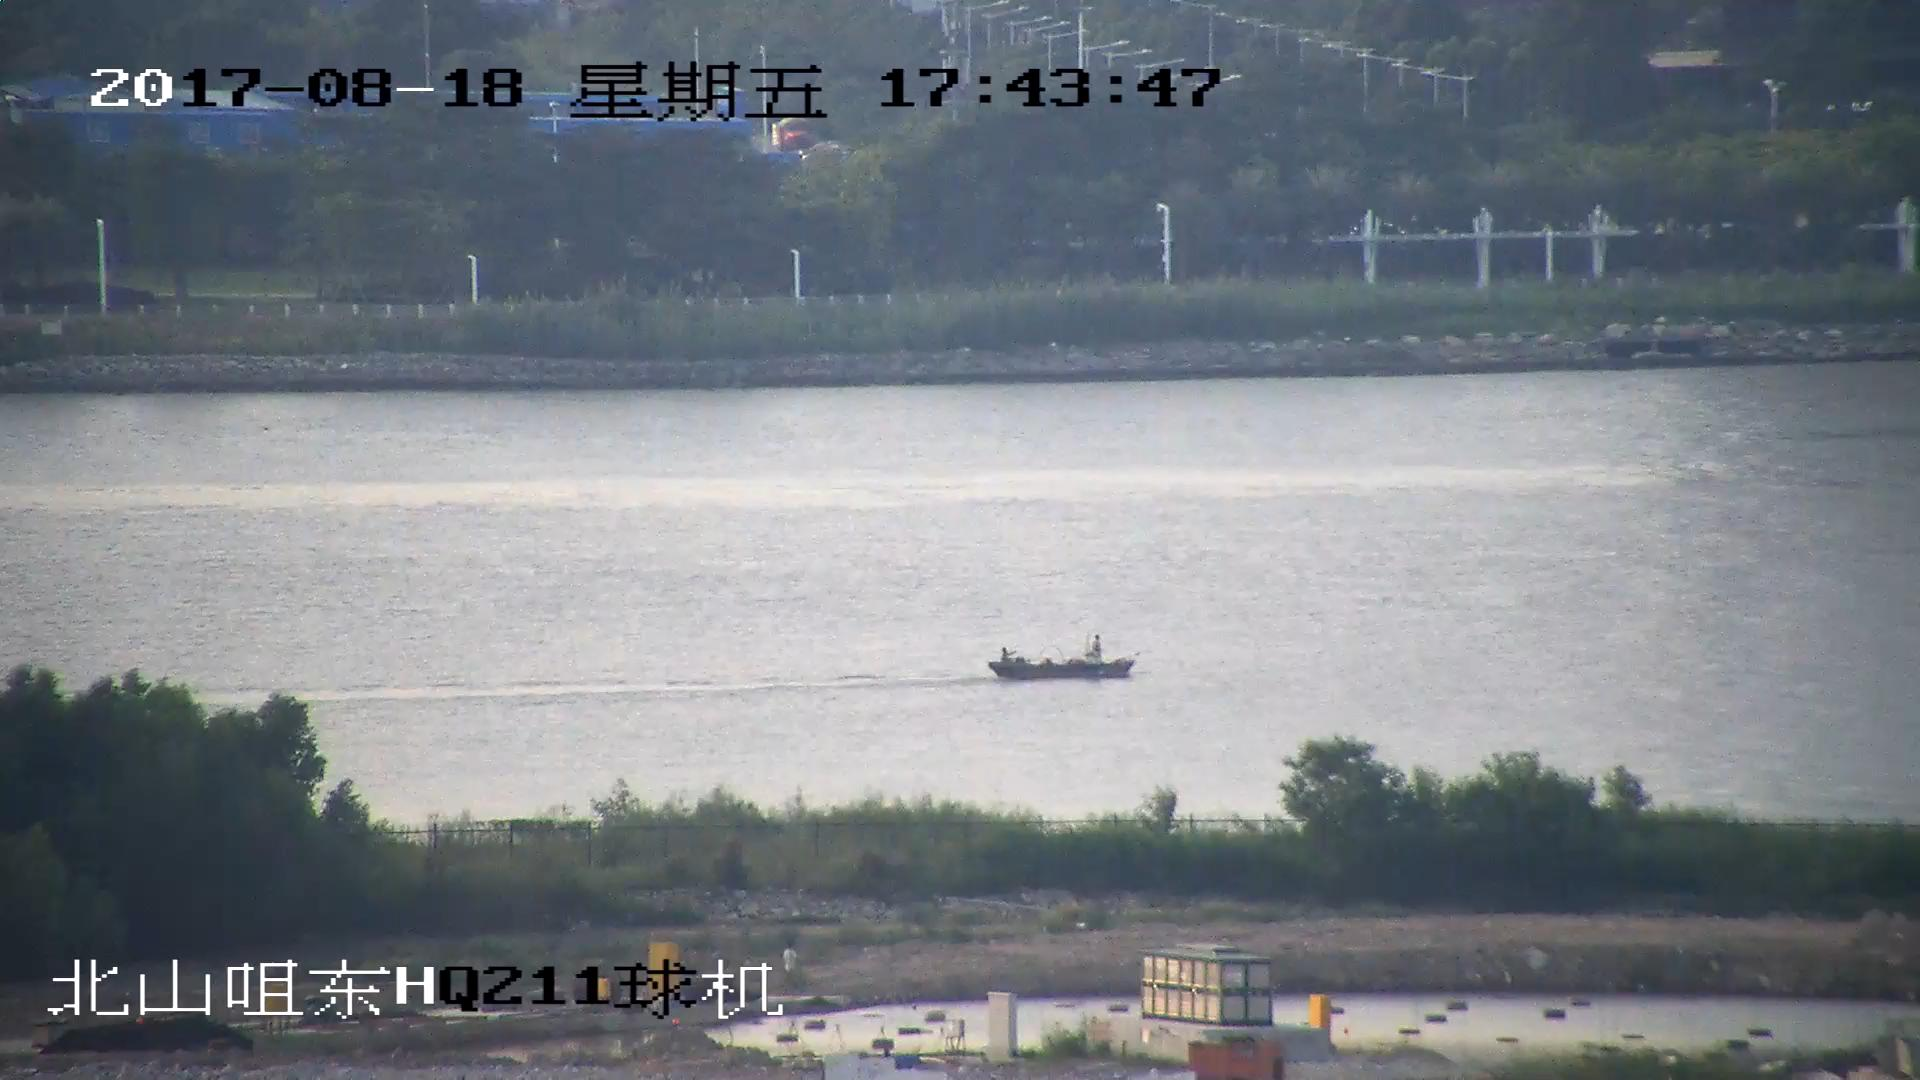fishing boat: (990, 636, 1135, 680)
